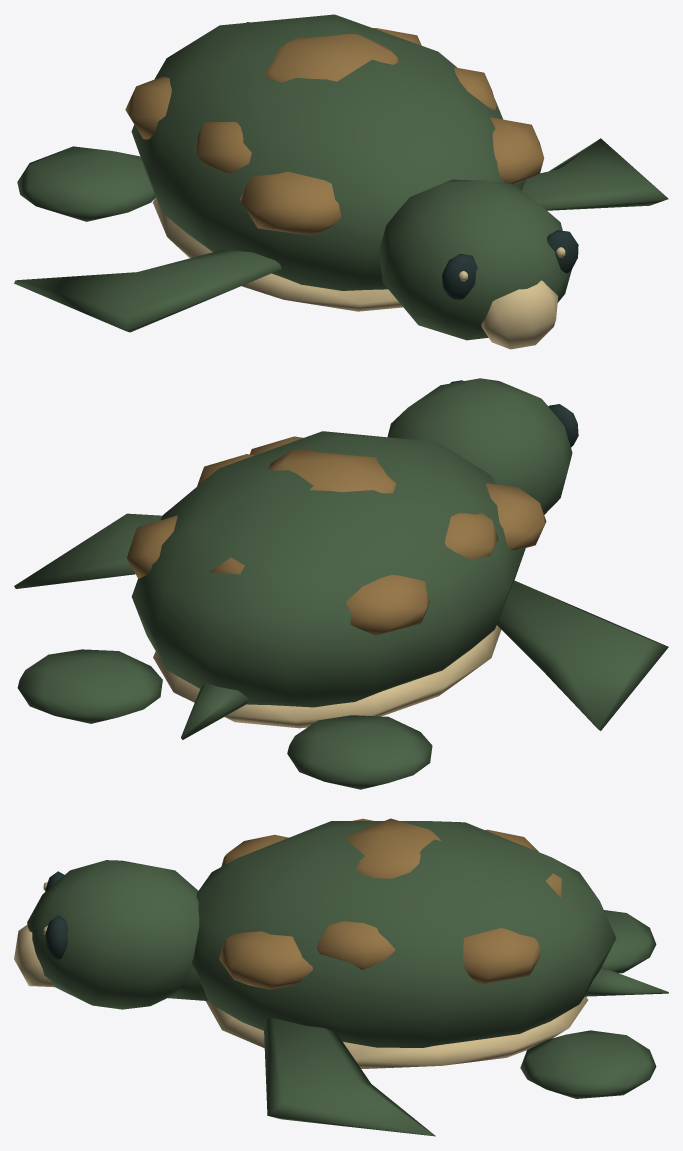
File: org_seaturtle.glb
The picture shows the model from 3 angles, top to bottom: view 1: azimuth 30°, elevation 25°; view 2: azimuth 150°, elevation 25°; view 3: azimuth 270°, elevation 25°; orthographic projection. The views are drawn at different scales.
Visible parts, largest first — view 1: Body, Head, Fin_R, Leg_BR, Fin_L, Eye_R, Eye_L; view 2: Body, Head, Fin_R, Leg_BR, Leg_BL, Fin_L, Tail; view 3: Body, Head, Fin_L, Leg_BL, Leg_BR, Tail, Eye_L.
Part boxes in pixels (x1,y1,x2,y2): Body: [125, 14, 544, 311]; Head: [379, 179, 571, 349]; Fin_R: [14, 249, 281, 332]; Leg_BR: [17, 146, 155, 221]; Fin_L: [522, 138, 668, 210]; Eye_R: [442, 254, 477, 299]; Eye_L: [547, 230, 578, 273]; Body: [127, 431, 546, 728]; Head: [387, 378, 572, 514]; Fin_R: [497, 580, 668, 730]; Leg_BR: [287, 715, 432, 789]; Leg_BL: [17, 649, 162, 723]; Fin_L: [14, 513, 162, 588]; Tail: [181, 682, 248, 739]; Body: [192, 818, 616, 1068]; Head: [14, 860, 209, 1009]; Fin_L: [263, 1018, 435, 1136]; Leg_BL: [520, 1030, 656, 1098]; Leg_BR: [602, 910, 656, 973]; Tail: [585, 967, 668, 996]; Eye_L: [43, 915, 67, 960].
Size of the model in its own units: 0.5776 by 0.203 by 0.6012.
